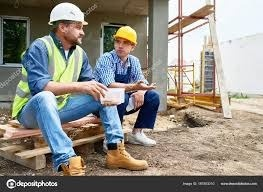helmet: (46, 1, 90, 27), (112, 24, 139, 47)
person with full safety: (11, 1, 107, 132)
person with partial safety: (95, 24, 156, 89)
safety vest: (20, 44, 89, 114)
